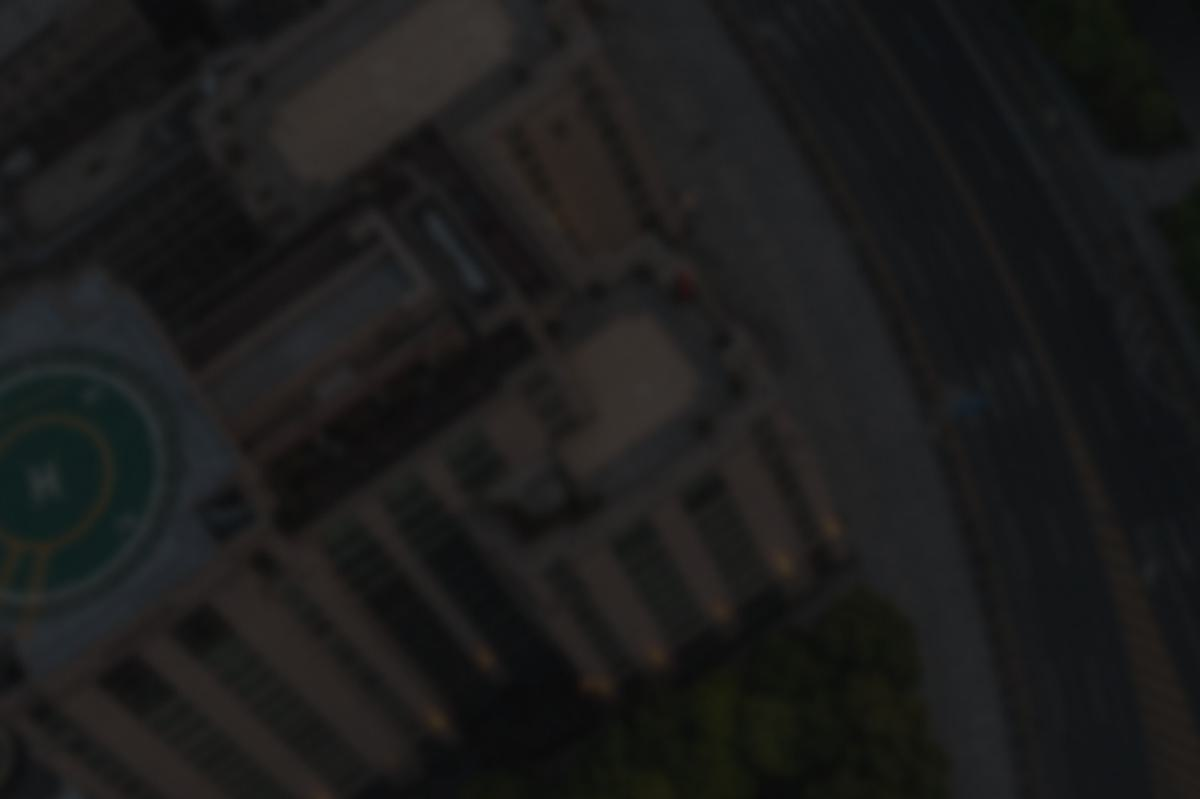Apron: (1, 414, 104, 535)
